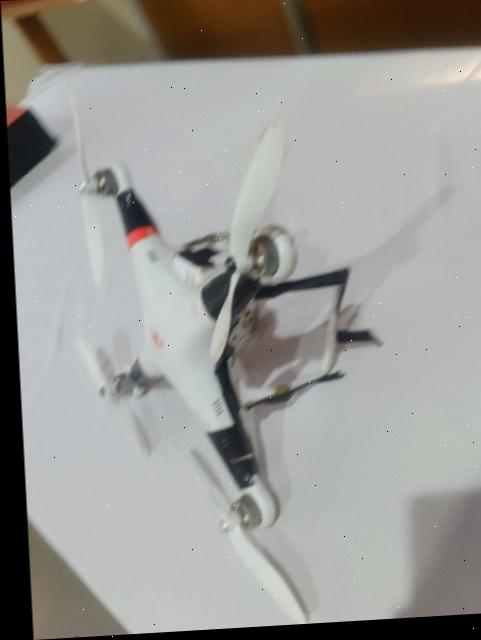drone: (52, 144, 345, 555)
